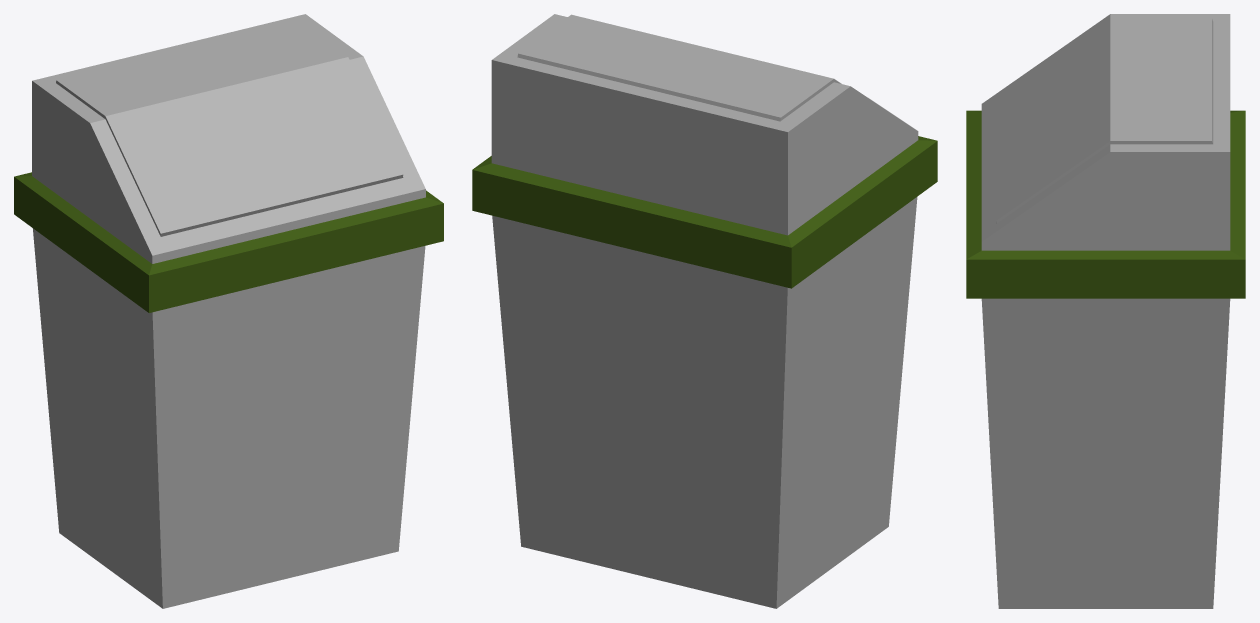
Rendered from TrashBinV2White.fbx.
The picture shows the model from 3 angles, left to right: view 1: azimuth 30°, elevation 25°; view 2: azimuth 150°, elevation 25°; view 3: azimuth 270°, elevation 25°; orthographic projection. The views are drawn at different scales.
Parts seen in each view (by area): view 1: TrashBinV2White, TrashBinV2White_Top; view 2: TrashBinV2White, TrashBinV2White_Top; view 3: TrashBinV2White, TrashBinV2White_Top.
Part boxes in pixels (x1,y1,x2,y2): TrashBinV2White: [14, 14, 443, 608]; TrashBinV2White_Top: [56, 21, 403, 236]; TrashBinV2White: [472, 14, 937, 608]; TrashBinV2White_Top: [517, 14, 841, 121]; TrashBinV2White: [966, 14, 1245, 608]; TrashBinV2White_Top: [996, 18, 1213, 222].
Bounding box in the file's own units: 55.21 × 81.21 × 43.77.
